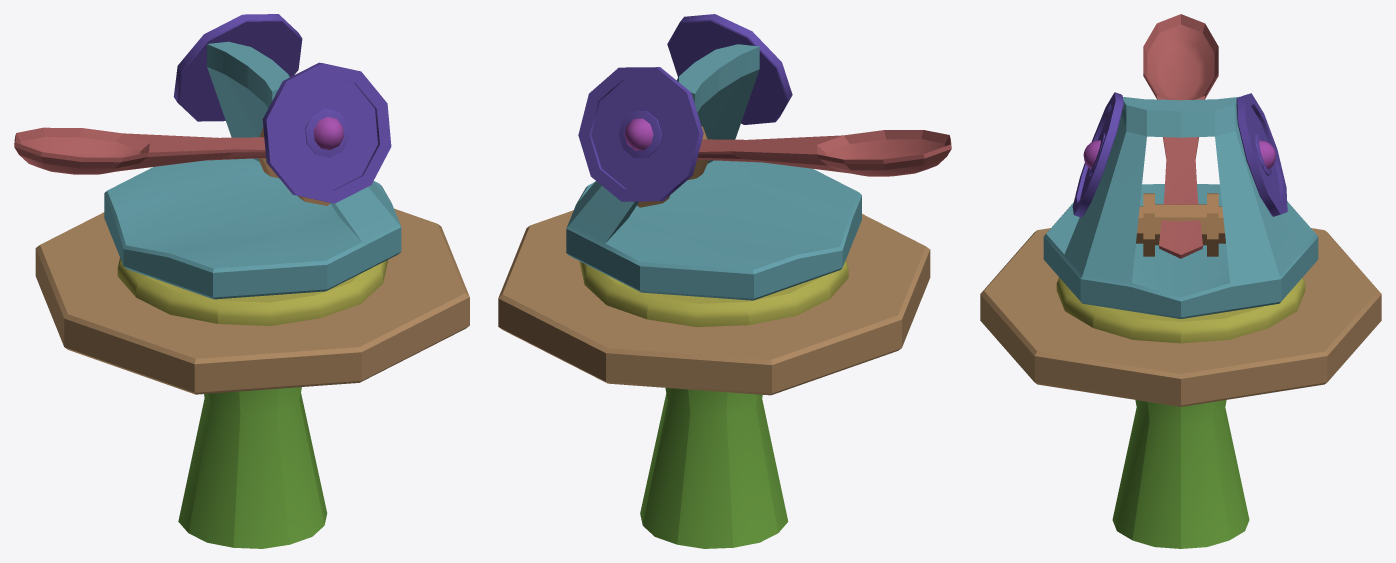
The model's file is catapult.fbx.
3 renders of one model, left to right at view 1: azimuth 30°, elevation 25°; view 2: azimuth 150°, elevation 25°; view 3: azimuth 270°, elevation 25°, orthographic. The views are drawn at different scales.
Parts seen in each view (by area): view 1: pCube1, pCube2, pCylinder1, charcter_sheet_003_0005:pCylinder18, pCylinder2, pCylinder18, charcter_sheet_003_0005:pSphere5; view 2: pCube1, pCube2, pCylinder1, pCylinder18, pCylinder2, charcter_sheet_003_0005:pCylinder18, pSphere5; view 3: pCube1, pCube2, pCylinder1, pCylinder2, pCylinder18, pCylinder3, charcter_sheet_003_0005:pCylinder18.
Boxes of the visible parts, bbox=[...] form: pCube1: bbox=[35, 208, 469, 394]; pCube2: bbox=[104, 41, 401, 299]; pCylinder1: bbox=[117, 258, 387, 548]; charcter_sheet_003_0005:pCylinder18: bbox=[262, 62, 391, 203]; pCylinder2: bbox=[14, 127, 265, 174]; pCylinder18: bbox=[173, 14, 302, 121]; charcter_sheet_003_0005:pSphere5: bbox=[313, 116, 343, 150]; pCube1: bbox=[498, 210, 930, 395]; pCube2: bbox=[566, 44, 861, 300]; pCylinder1: bbox=[579, 259, 848, 548]; pCylinder18: bbox=[578, 67, 703, 201]; pCylinder2: bbox=[697, 130, 951, 176]; charcter_sheet_003_0005:pCylinder18: bbox=[667, 14, 792, 124]; pSphere5: bbox=[624, 118, 653, 150]; pCube1: bbox=[980, 228, 1381, 406]; pCube2: bbox=[1043, 96, 1318, 318]; pCylinder1: bbox=[1056, 277, 1305, 548]; pCylinder2: bbox=[1143, 14, 1218, 258]; pCylinder18: bbox=[1236, 93, 1287, 216]; pCylinder3: bbox=[1136, 193, 1225, 256]; charcter_sheet_003_0005:pCylinder18: bbox=[1072, 92, 1123, 217].
Bounding box in the file's own units: 14.75 × 15.57 × 13.02.
